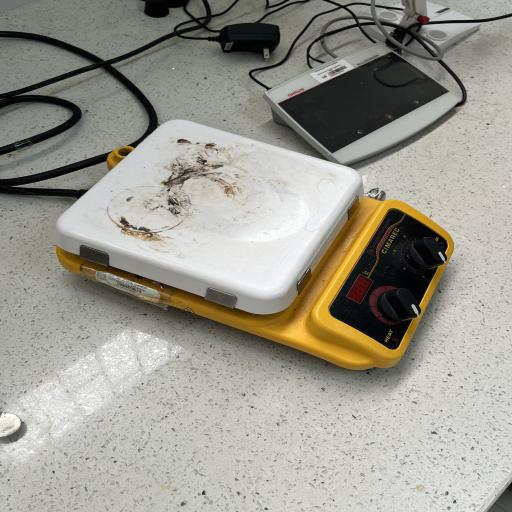Plancha_Agitacion_Cimarec: (38, 106, 476, 384)
